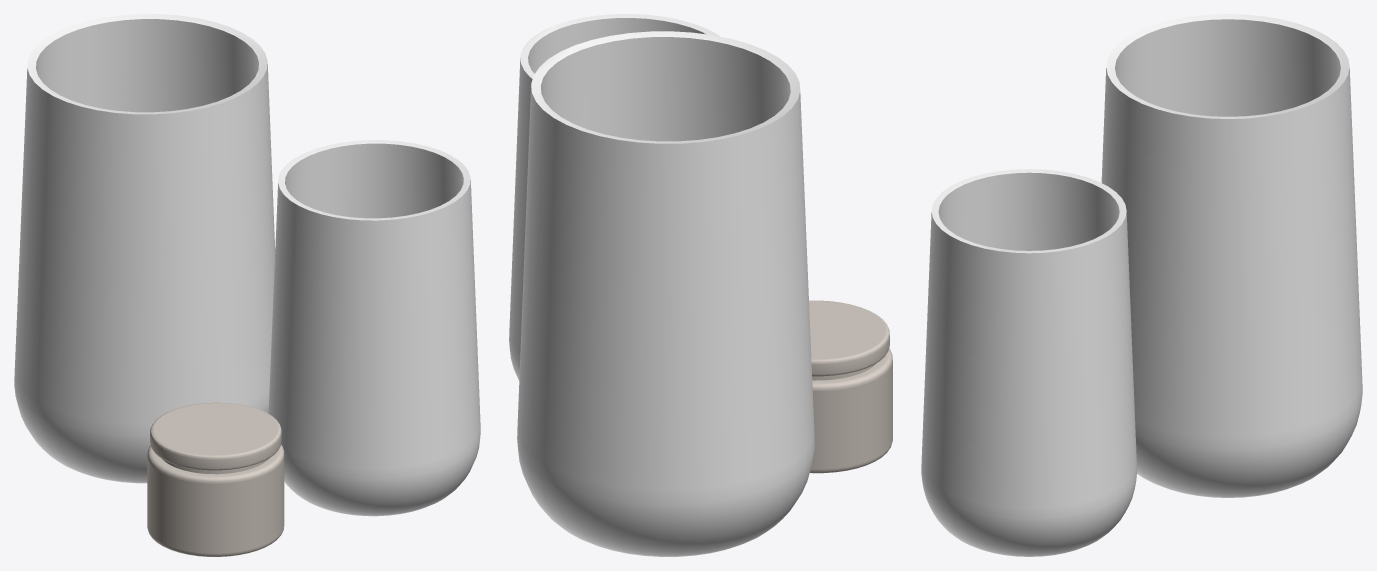
Rendered from jarron3.glb.
The picture shows the model from 3 angles, left to right: view 1: azimuth 30°, elevation 25°; view 2: azimuth 150°, elevation 25°; view 3: azimuth 270°, elevation 25°; orthographic projection. The views are drawn at different scales.
Parts seen in each view (by area): view 1: jarron3.001; view 2: jarron3.001; view 3: jarron3.001.
Part boxes in pixels (<box>): jarron3.001: <box>14,14,480,556</box>; jarron3.001: <box>509,14,892,556</box>; jarron3.001: <box>921,14,1362,556</box>.
Bounding box in the file's own units: 0.289 × 0.313 × 0.317.
Materials: 2 (1 with a texture image).
